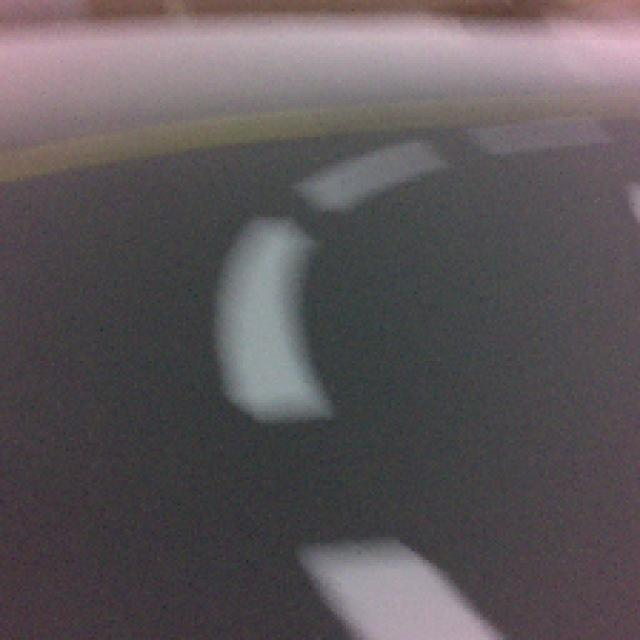Guard rail: (306, 537, 492, 638)
